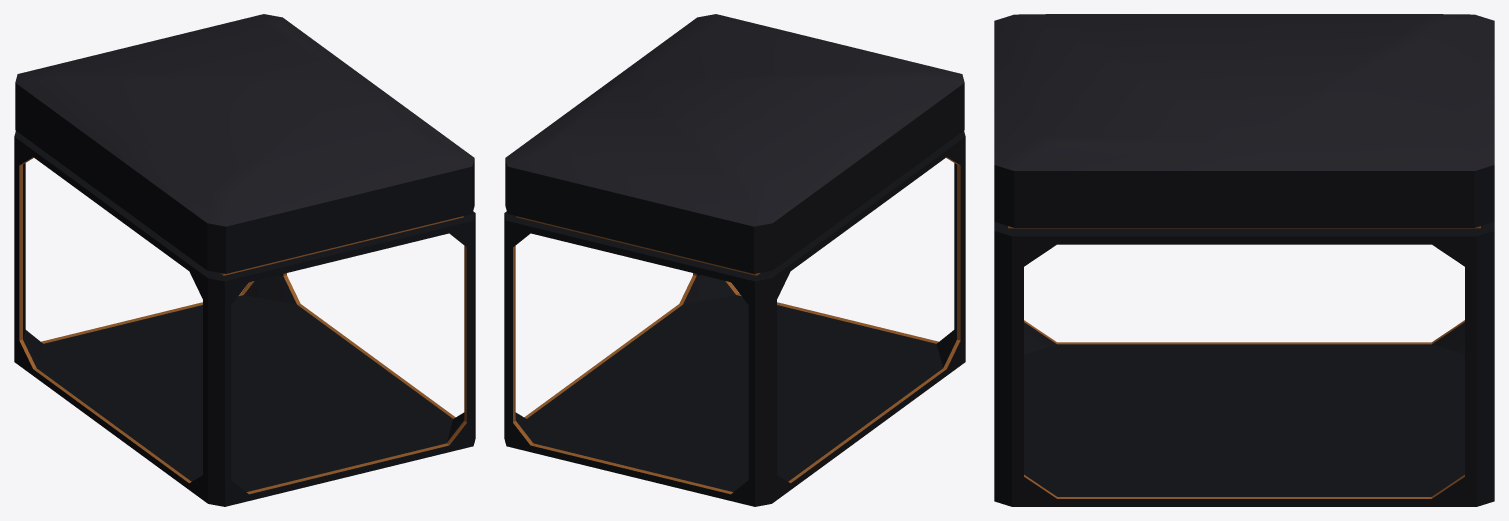
Rendered from 03_Caja_02.fbx.
3 renders of one model, left to right at view 1: azimuth 30°, elevation 25°; view 2: azimuth 150°, elevation 25°; view 3: azimuth 270°, elevation 25°, orthographic. The views are drawn at different scales.
Parts seen in each view (by area): view 1: Caja_02; view 2: Caja_02; view 3: Caja_02.
Boxes of the visible parts, x1=… form: Caja_02: x1=14, y1=14, x2=475, y2=506; Caja_02: x1=504, y1=14, x2=965, y2=506; Caja_02: x1=994, y1=14, x2=1494, y2=506.
Size of the model in its own units: 374 by 391 by 505.
